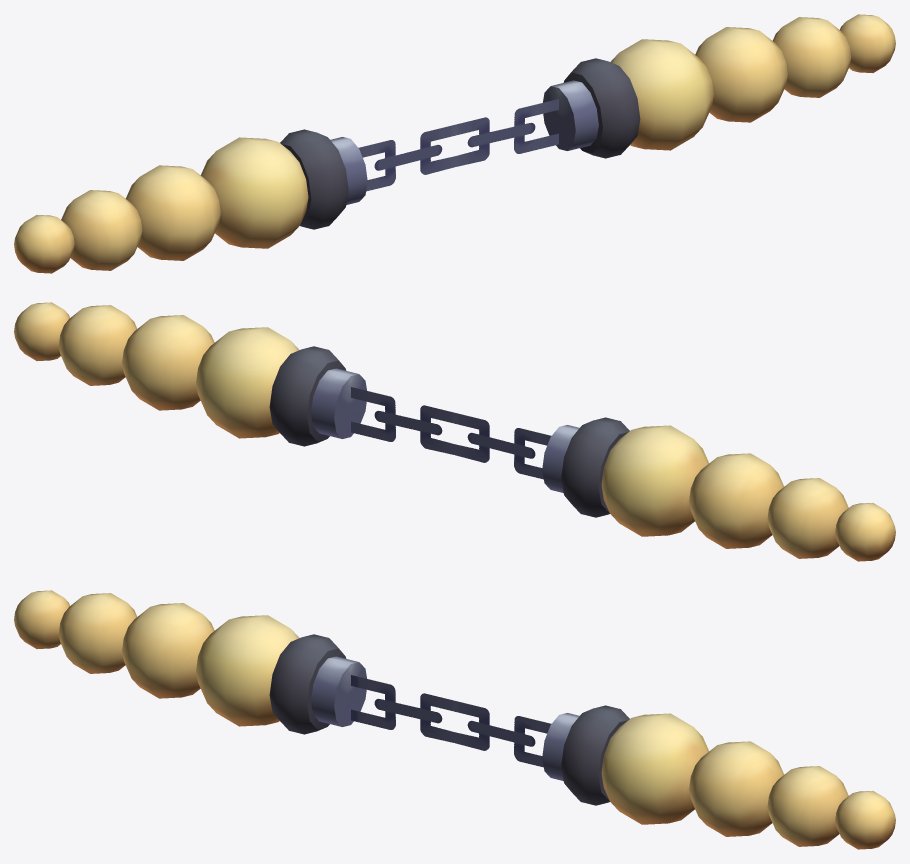
File: nunchuck backup.fbx
3 renders of one model, top to bottom at view 1: azimuth 30°, elevation 25°; view 2: azimuth 150°, elevation 25°; view 3: azimuth 330°, elevation 25°, orthographic.
Parts seen in each view (by area): view 1: Cylinder001, Plane001; view 2: Cylinder001, Plane001; view 3: Cylinder001, Plane001.
Part boxes in pixels (<box>): Cylinder001: <box>14,14,895,273</box>; Plane001: <box>358,99,558,191</box>; Cylinder001: <box>14,302,895,561</box>; Plane001: <box>351,387,551,479</box>; Cylinder001: <box>14,590,895,849</box>; Plane001: <box>351,675,551,767</box>.
Size of the model in its own units: 3.57 by 0.4068 by 0.4068.
